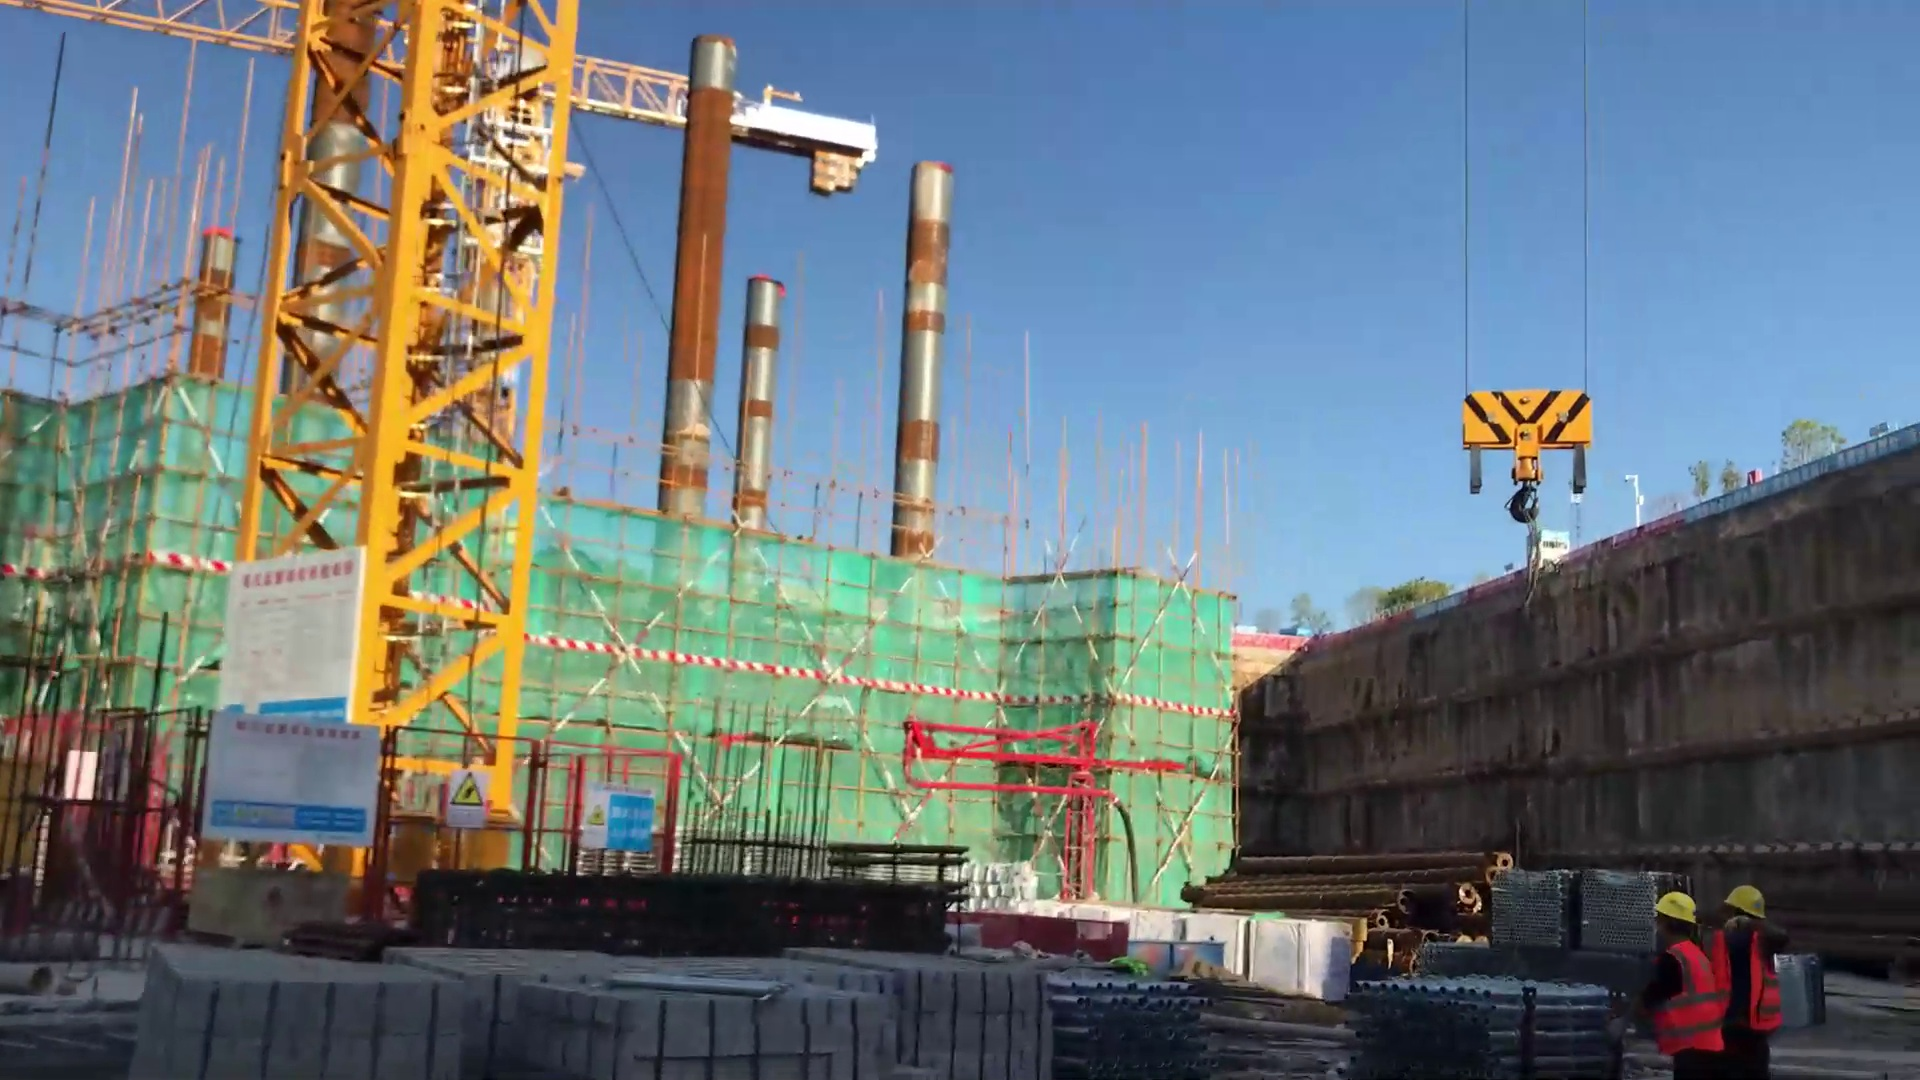brick: (144, 933, 1050, 1080)
helmet: (1721, 873, 1777, 922), (1651, 879, 1702, 920)
hook: (1448, 383, 1597, 526)
person: (1636, 891, 1726, 1080), (1711, 883, 1775, 1080)
scaffold: (1313, 949, 1631, 1080)
vest: (1711, 906, 1775, 1047), (1652, 933, 1725, 1051)
